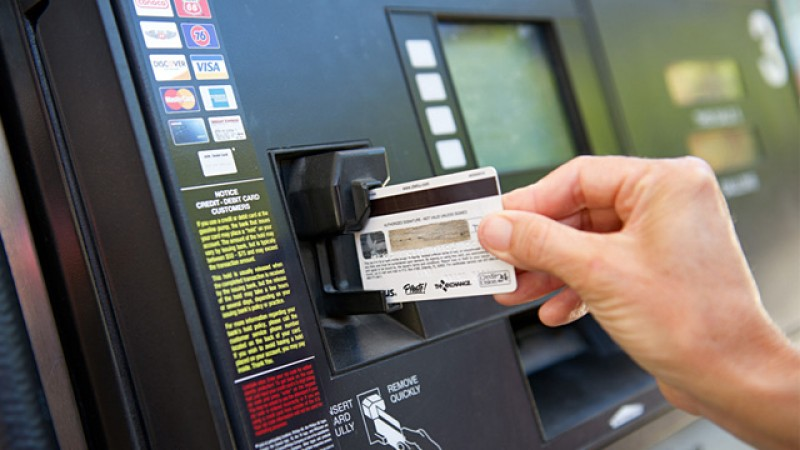tarjeta: (350, 165, 521, 307)
